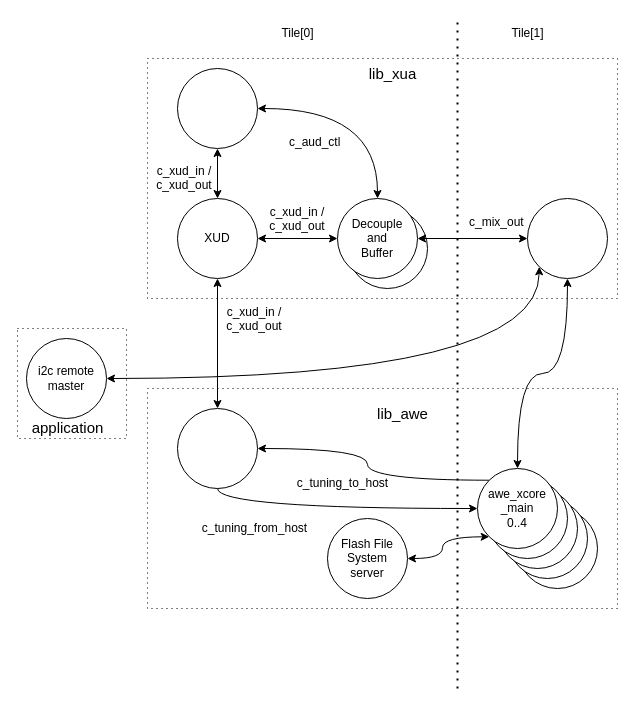
This 635x707 diagram has some shape labels left out. Here are the shapes that lost their labels. From the top down, the box of each, then its label:
(176, 68, 258, 148): Endpoint 0
(526, 198, 608, 278): Audio (I2S)
(176, 408, 258, 488): awe_usb_hid
